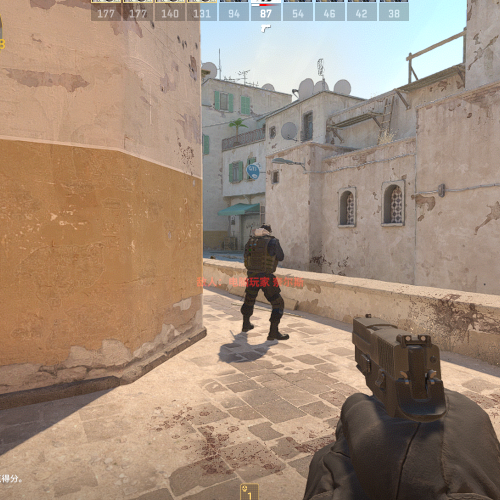ct_body: (241, 222, 289, 342)
ct_head: (256, 223, 271, 237)
